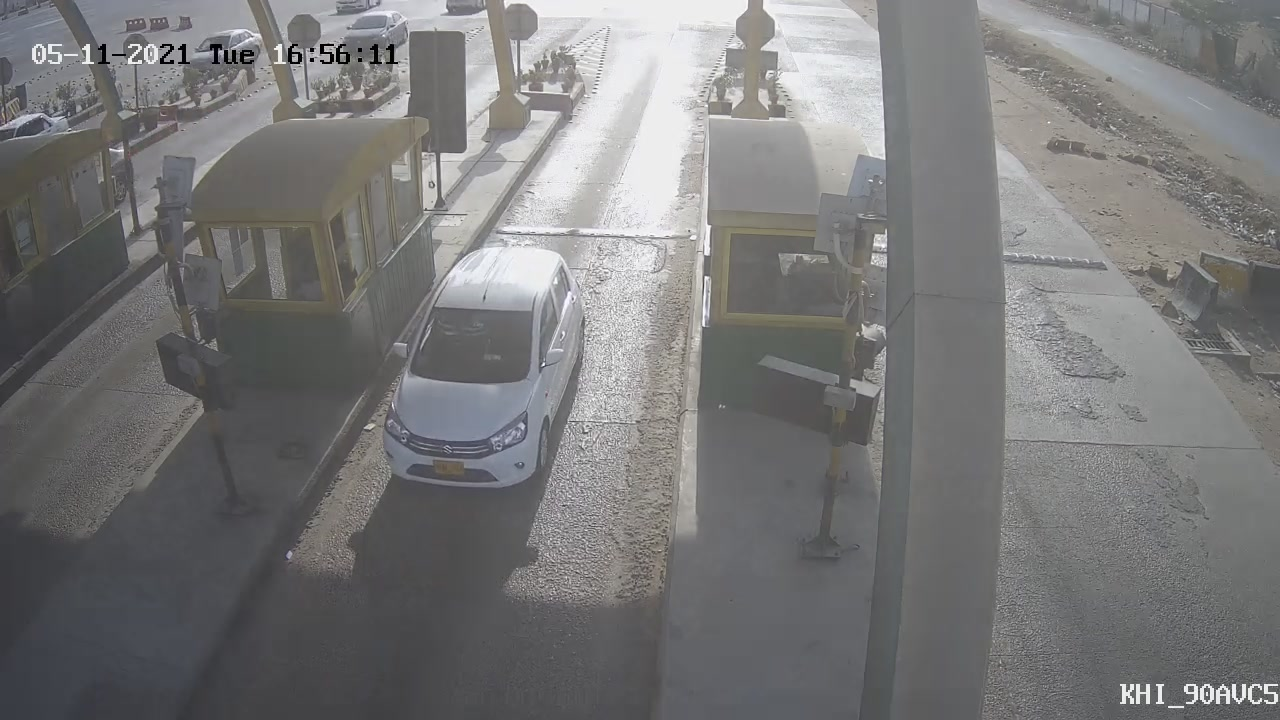F1: (347, 220, 613, 512)
